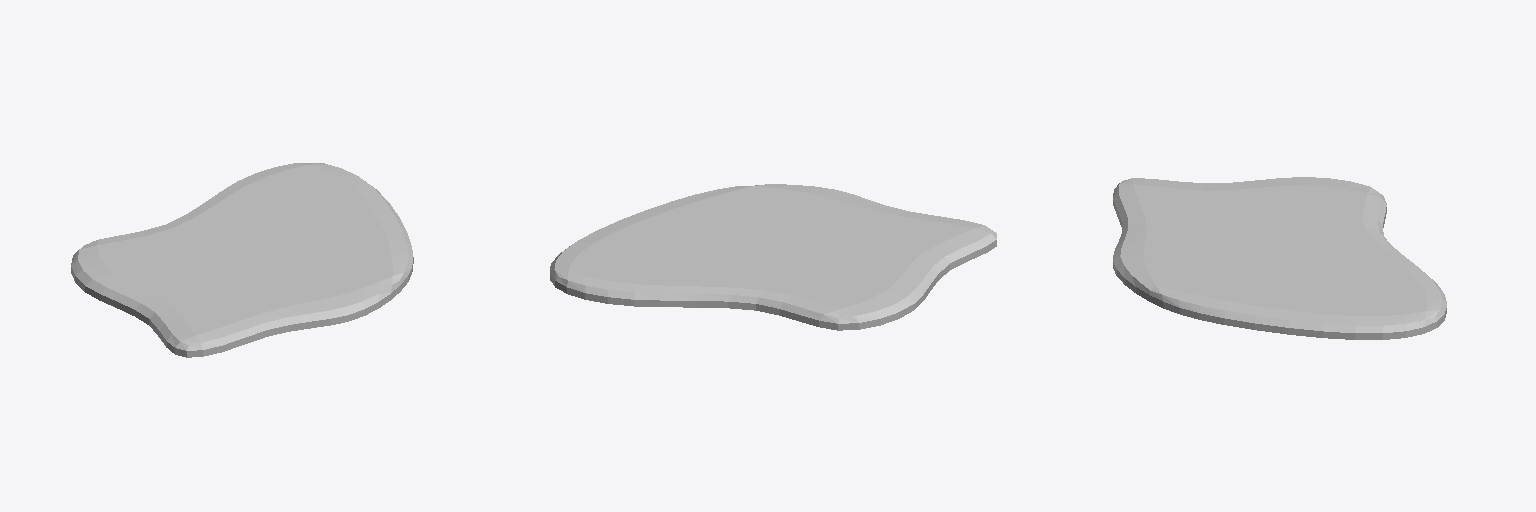
The model's file is Stain.obj.
The picture shows the model from 3 angles: view 1: azimuth 30°, elevation 25°; view 2: azimuth 150°, elevation 25°; view 3: azimuth 270°, elevation 25°; orthographic projection.
Visible parts, largest first — view 1: Mesh; view 2: Mesh; view 3: Mesh.
Part boxes in pixels (left/top/right/bottom): Mesh: left=71, top=163, right=413, bottom=357; Mesh: left=550, top=184, right=996, bottom=330; Mesh: left=1113, top=177, right=1446, bottom=339.
Size of the model in its own units: 0.1233 by 0.005 by 0.1127.